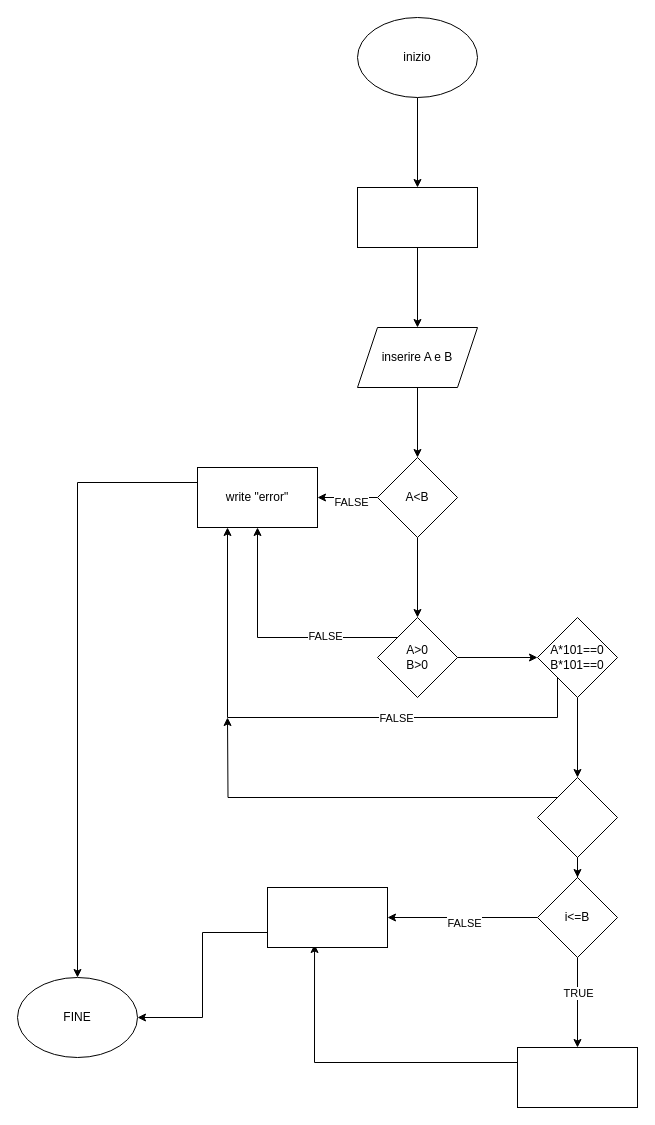
This 655x1125 diagram has some shape labels left out. The shapes that lost their labels are listed below. From the top down, each one's centre as x and y in pixels, then its label:
At point 417,217: "i = A somma = 0".
At point 577,817: "A>0 and B>0".
At point 327,917: "read somma".
At point 577,1077: "somma = somma + i".
